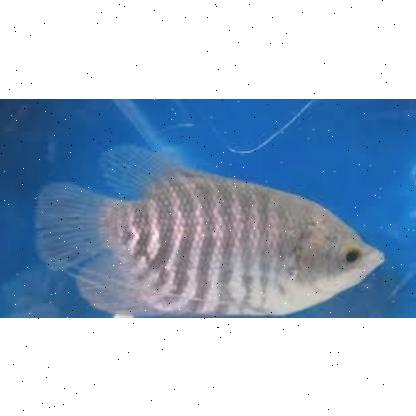gurame: (40, 146, 388, 316)
